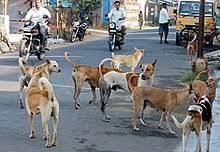normal_dogs: (127, 77, 202, 140), (96, 50, 156, 126), (68, 45, 134, 108), (171, 74, 219, 152), (26, 73, 69, 145), (16, 52, 62, 108), (109, 47, 149, 74), (182, 36, 202, 57)
